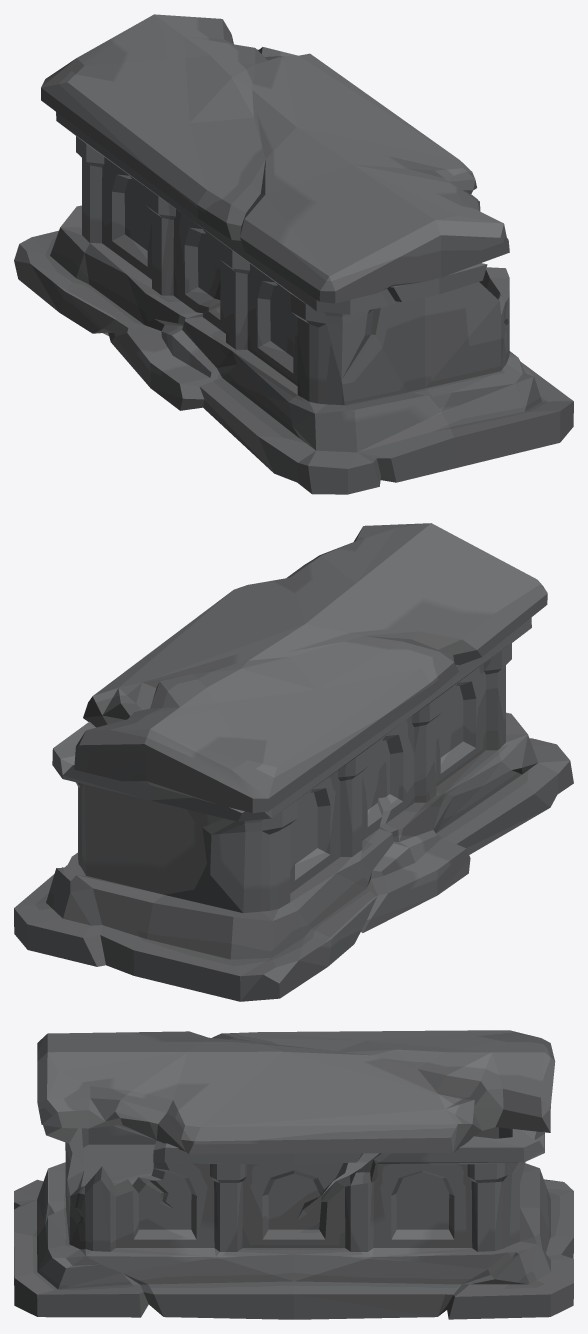
Rendered from crypt_tomb_b.gltf.
The picture shows the model from 3 angles, top to bottom: view 1: azimuth 30°, elevation 25°; view 2: azimuth 150°, elevation 25°; view 3: azimuth 270°, elevation 25°; orthographic projection. The views are drawn at different scales.
Visible parts, largest first — view 1: crypt_tomb_b; view 2: crypt_tomb_b; view 3: crypt_tomb_b.
Boxes of the visible parts, <box> form: crypt_tomb_b: <box>14,14,573,494</box>; crypt_tomb_b: <box>14,523,573,1001</box>; crypt_tomb_b: <box>14,1030,573,1319</box>.
Size of the model in its own units: 1.47 by 1.16 by 2.83.
1 material, 1 textured.
